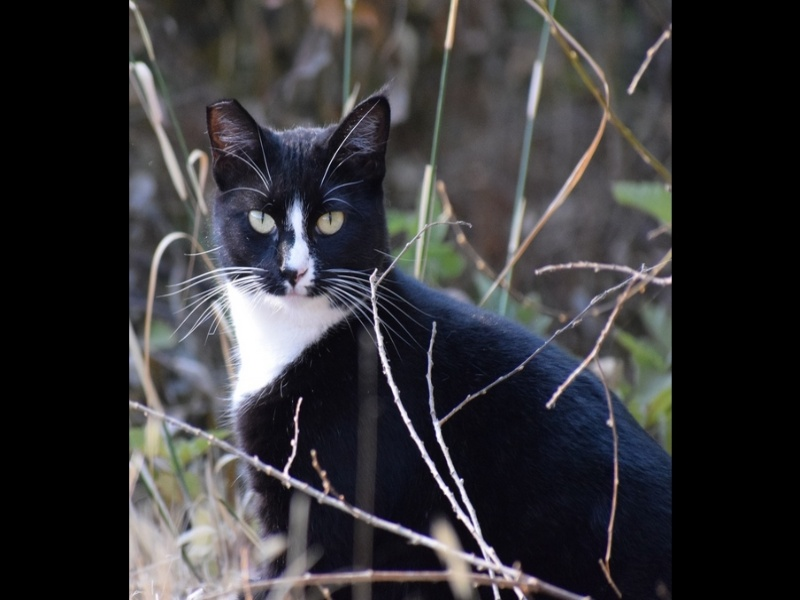cat: (197, 97, 669, 597)
